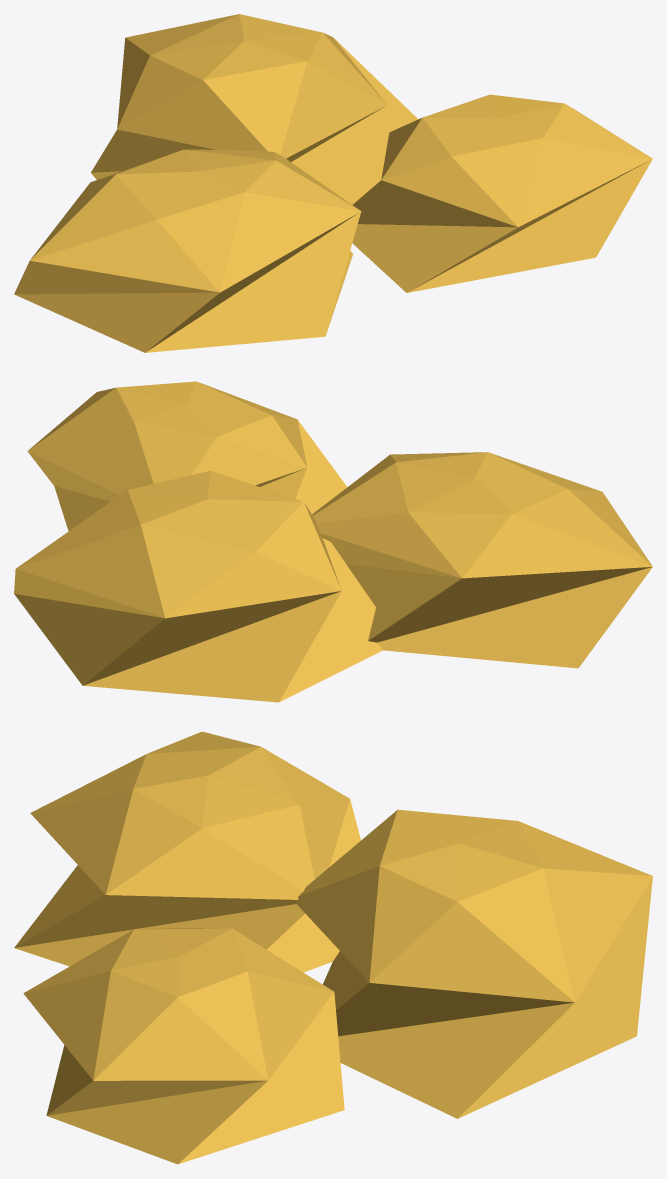
Rendered from item_rm_gold_b.obj.
3 renders of one model, top to bottom at view 1: azimuth 30°, elevation 25°; view 2: azimuth 150°, elevation 25°; view 3: azimuth 270°, elevation 25°, orthographic. The views are drawn at different scales.
Bounding box in the file's own units: 0.8466 × 0.189 × 0.662.
